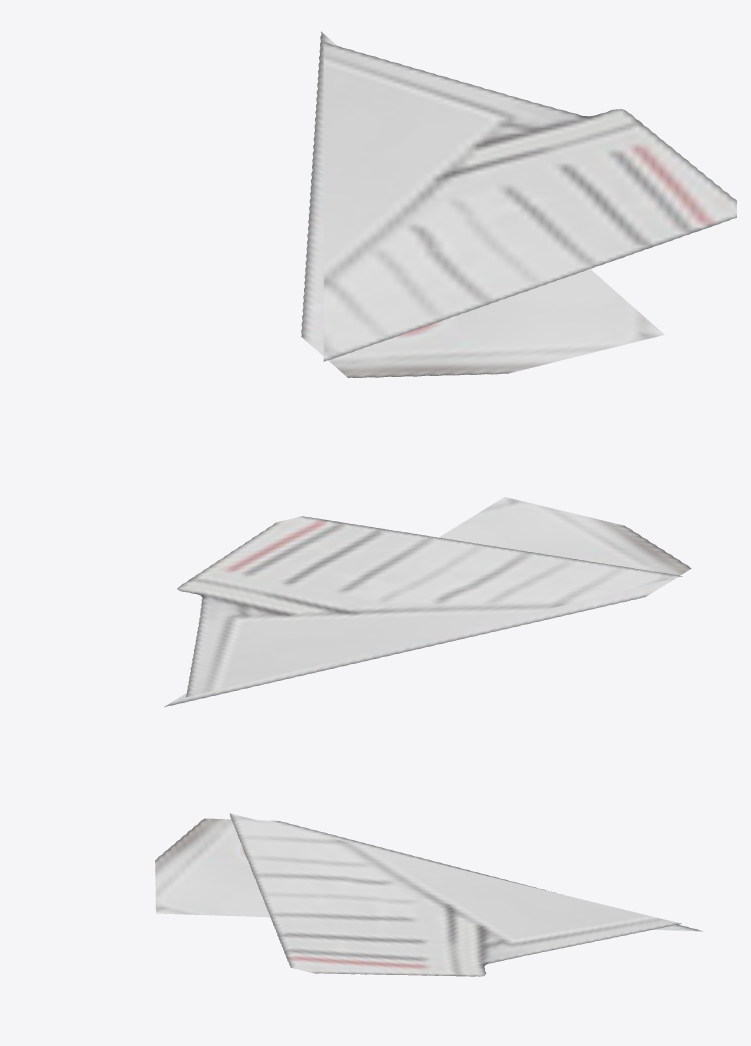
File: G_NaErSenEeZiDeFangJian_xinzhi_01.FBX
The picture shows the model from 3 angles, top to bottom: view 1: azimuth 30°, elevation 25°; view 2: azimuth 150°, elevation 25°; view 3: azimuth 270°, elevation 25°; orthographic projection. The views are drawn at different scales.
Parts seen in each view (by area): view 1: NaErSenErZideFangJian_xinzhi_01; view 2: NaErSenErZideFangJian_xinzhi_01; view 3: NaErSenErZideFangJian_xinzhi_01.
Boxes of the visible parts, x1,y1,x2,y2 form: NaErSenErZideFangJian_xinzhi_01: (301,31,736,377); NaErSenErZideFangJian_xinzhi_01: (164,497,691,707); NaErSenErZideFangJian_xinzhi_01: (155,813,702,976).
Size of the model in its own units: 160 by 1.01 by 212.
